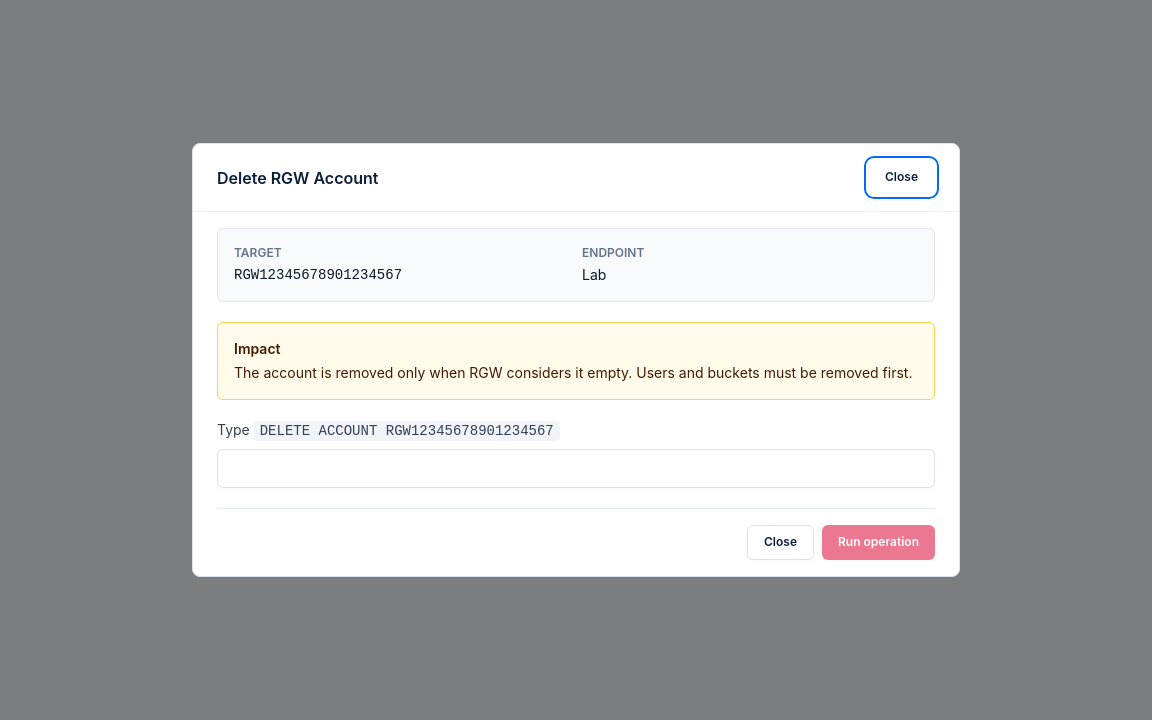
Test: CephAdminAdminOpsModal › requires the exact account phrase and keeps the RGW result visible
The image size is (1152, 720).
Check: the text "Lab" is shown, box x1=582 y1=266 x2=606 y2=283
Check: the button "Run operation" is disabled, box x1=822 y1=525 x2=935 y2=560
Type "DELETE ACCOUNT RGW12345678901234567" into the field named "Confirmation phrase".
click(576, 469); type("DELETE ACCOUNT RGW12345678901234567")  # box x1=217 y1=449 x2=935 y2=488
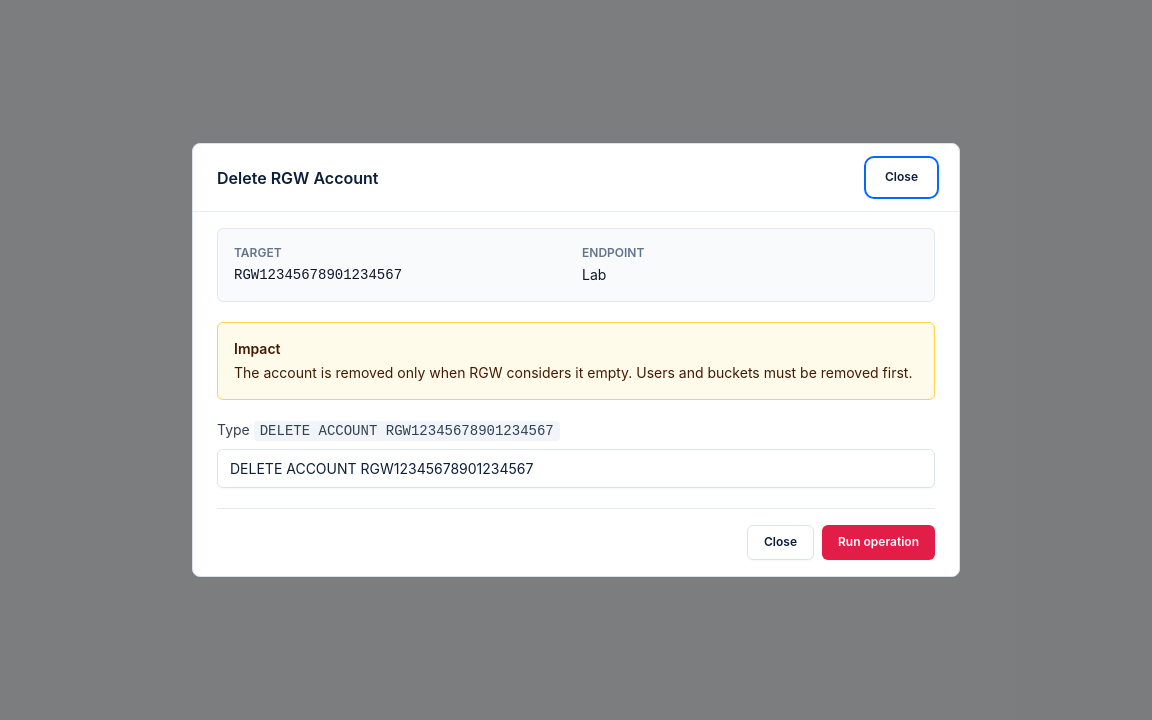
Click the button "Run operation".
click(878, 543)  # box x1=822 y1=525 x2=935 y2=560
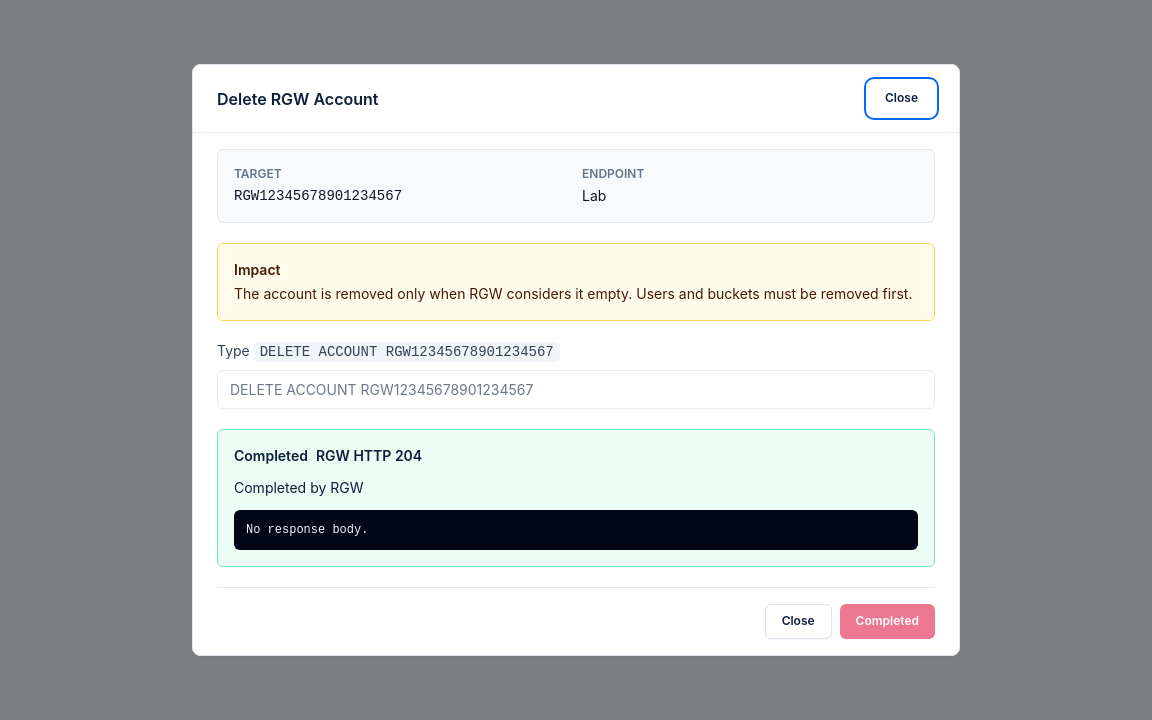
Check: the dialog is shown, box x1=192 y1=64 x2=960 y2=656
Check: the text "RGW HTTP 204" is shown, box x1=316 y1=446 x2=422 y2=466
Check: the text "No response body." is shown, box x1=234 y1=510 x2=918 y2=550
